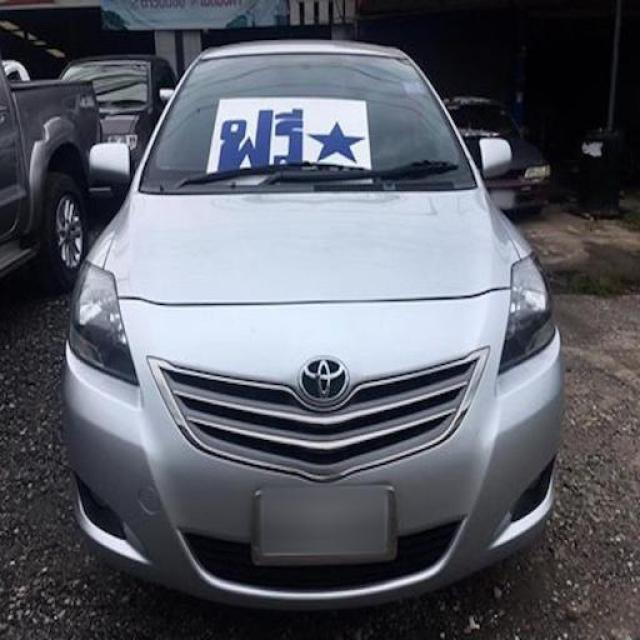front_bumper: (66, 288, 565, 608)
front_glass: (139, 53, 478, 193)
front_left_light: (496, 249, 557, 374)
front_right_light: (69, 258, 138, 385)
hood: (104, 189, 521, 303)
left_mirror: (480, 138, 513, 181)
right_mirror: (88, 143, 135, 186)
